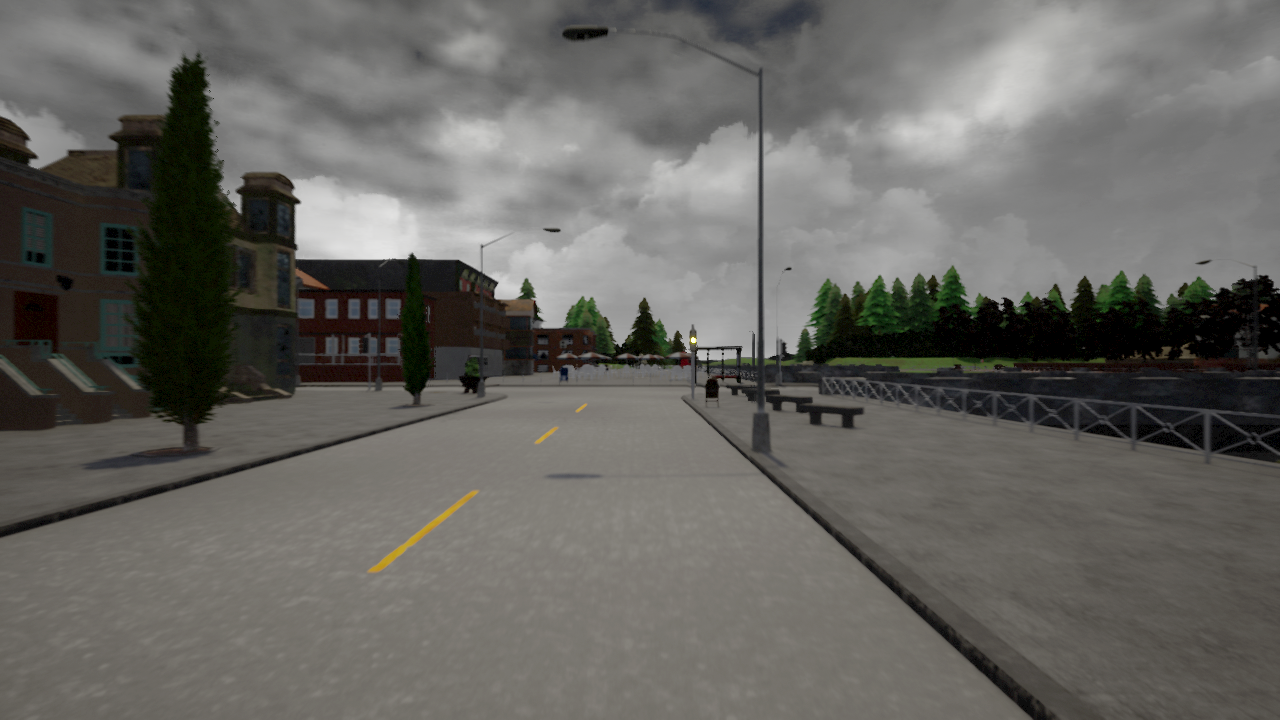yellow: (688, 329, 698, 354)
